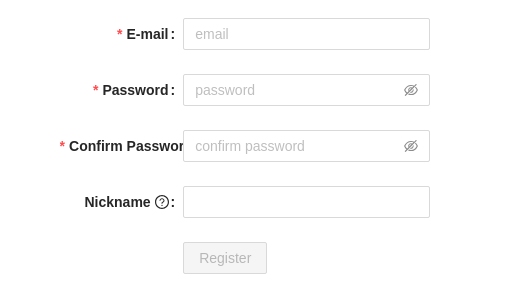
Scenario: Приложение целиком › После успешной регистрации данные попадают в форму логина
Type "test@test.com" into the field with placeholder "email" at (307, 34), box [183,18,430,50]
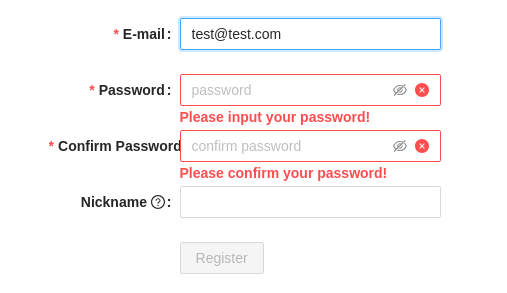
Type "testtest" into the password field with placeholder "Password" at (290, 90), box [192,79,389,101]
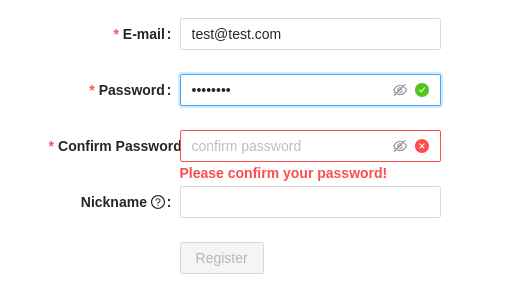
Type "testtest" into the password field with placeholder "Confirm Password" at (290, 146), box [192,135,389,157]
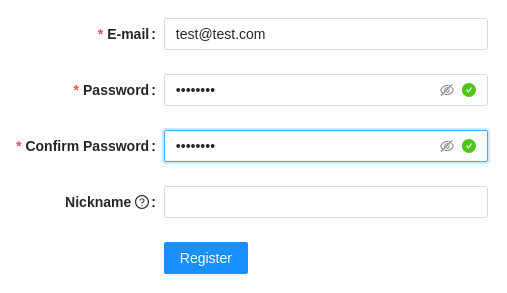
Expected: the button "Register" is enabled
Click the button "Register" at (206, 258), box [164,242,248,274]
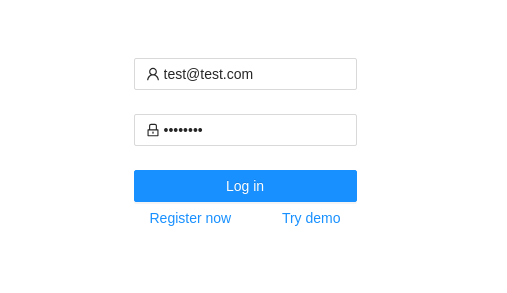
Expected: the field with placeholder "email" holds "test@test.com", [164,63,344,85]
Expected: the password field with placeholder "password" holds "testtest", [164,119,344,141]
Expected: the button "Log in" is enabled, [134,170,356,202]
